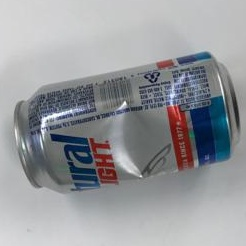Metal: (3, 50, 226, 199)
